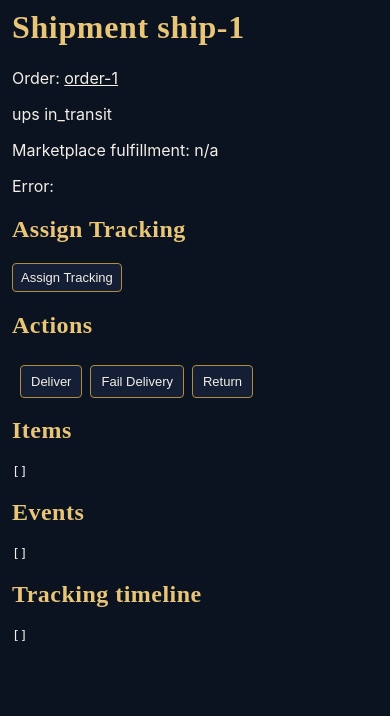
Scenario: Shipment detail lifecycle actions (Sprint 60B) › shows the backend's rejection message on failure without changing shipment status
Click the button "Deliver": {"x": 51, "y": 381} [20,364,82,398]
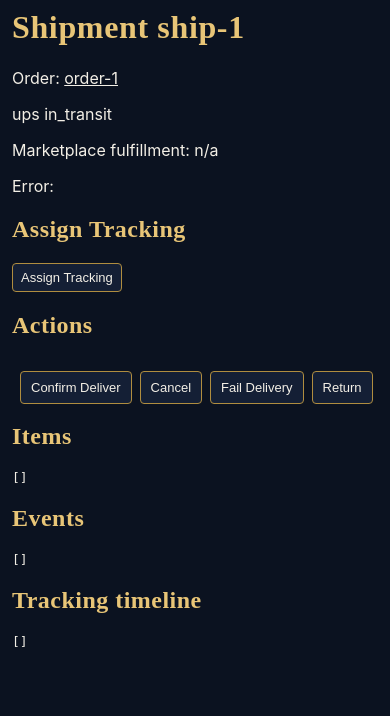
Click the button "Confirm Deliver": {"x": 76, "y": 387} [20,370,132,404]
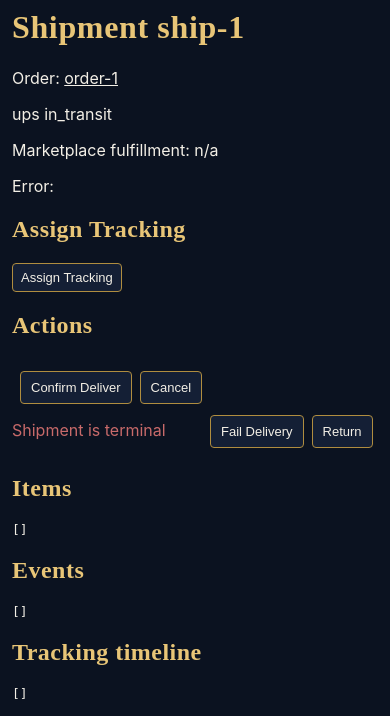
Expected: the message reads "Shipment is terminal", [12,420,166,440]
